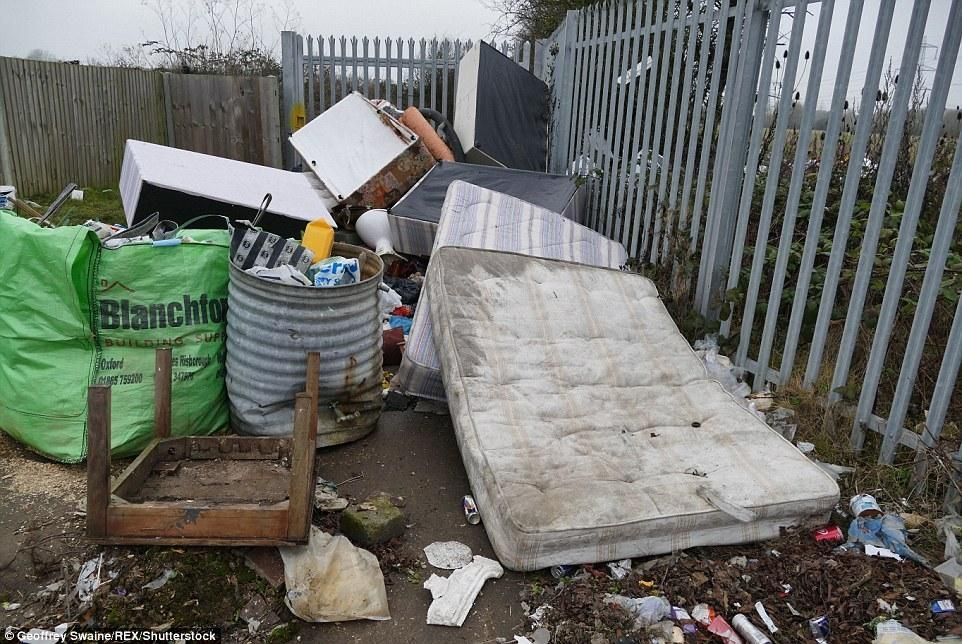Bed-Mattress: (416, 236, 858, 580), (388, 170, 644, 415)
